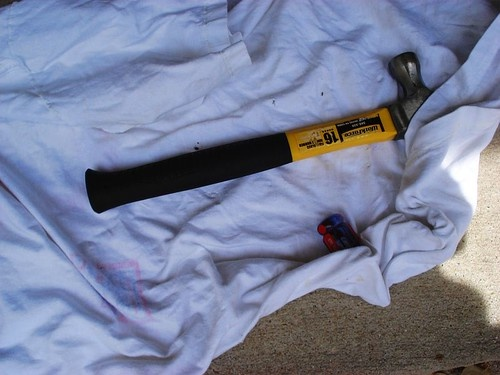hammer: (79, 54, 440, 211)
